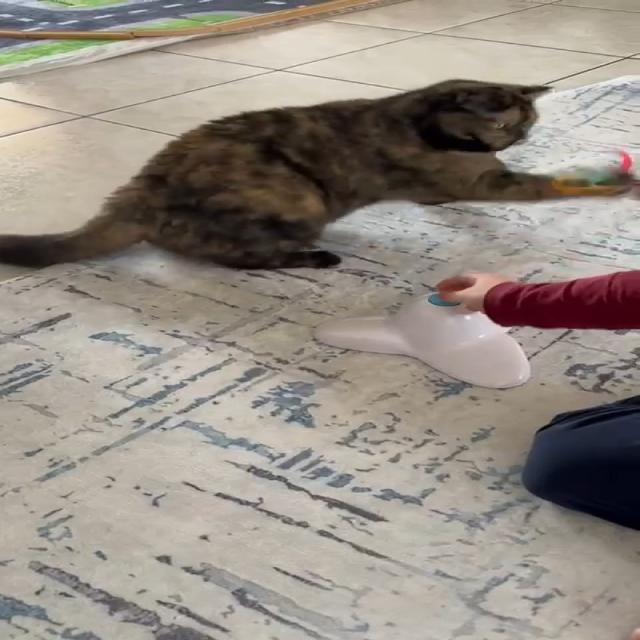authorized: (0, 78, 635, 271)
